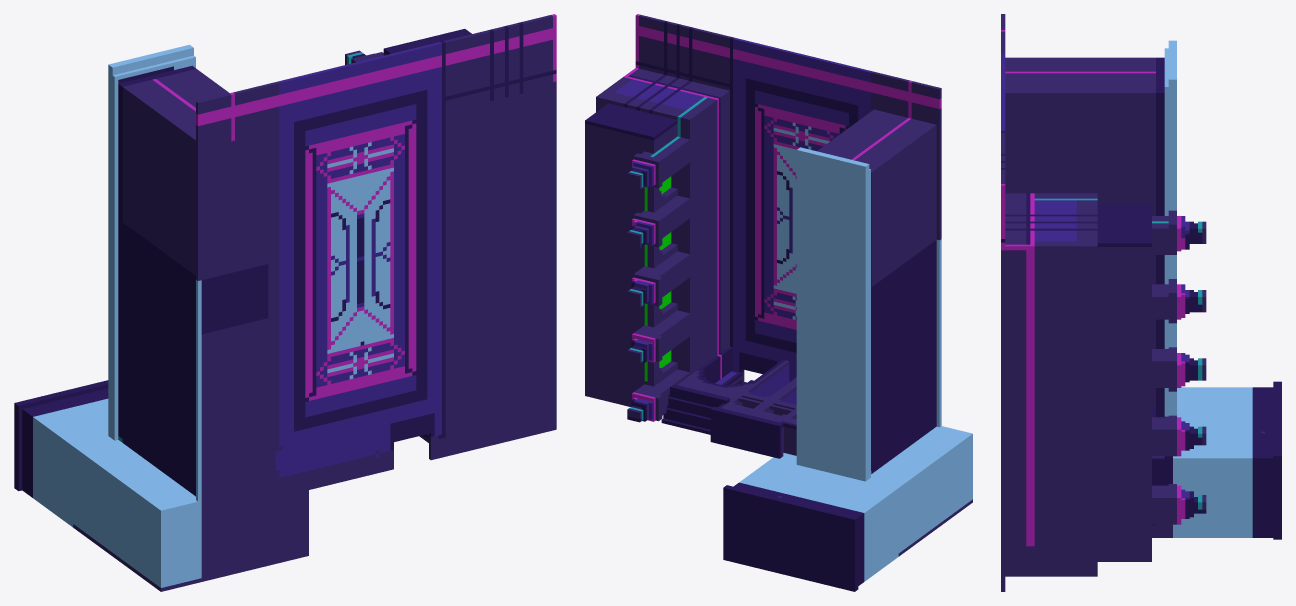
File: arcade square.obj
3 renders of one model, left to right at view 1: azimuth 30°, elevation 25°; view 2: azimuth 150°, elevation 25°; view 3: azimuth 270°, elevation 25°, orthographic. The views are drawn at different scales.
Bounding box in the file's own units: 10.8 × 12.4 × 6.7.
1 material, 1 textured.
